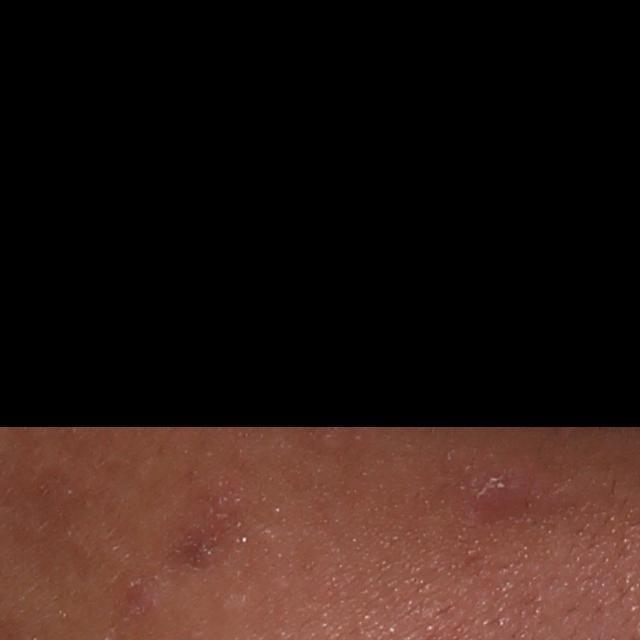papule: (458, 455, 537, 519)
